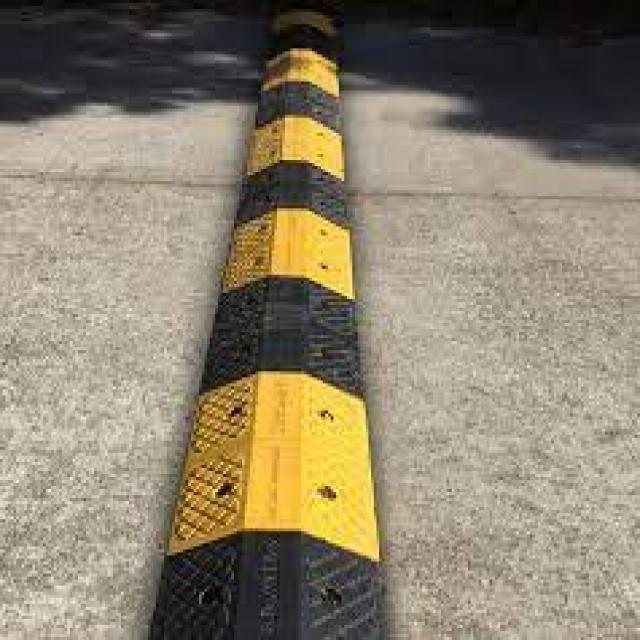Marked Bump: (156, 32, 392, 638)
